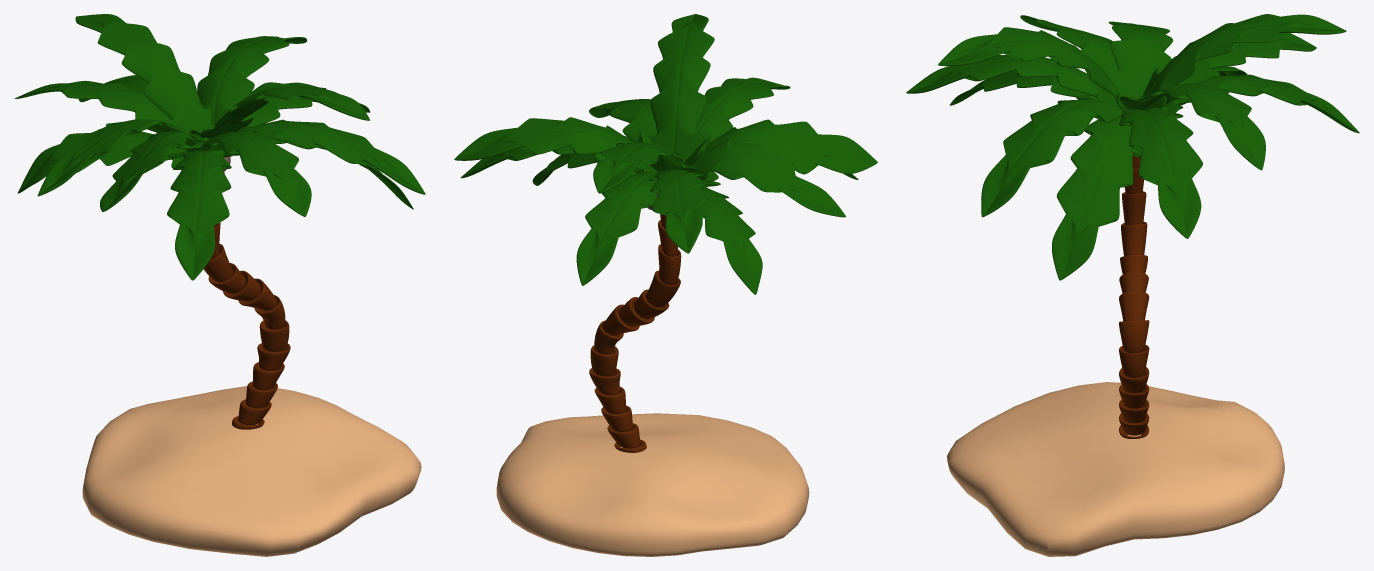
File: palma.glb
3 renders of one model, left to right at view 1: azimuth 30°, elevation 25°; view 2: azimuth 150°, elevation 25°; view 3: azimuth 270°, elevation 25°, orthographic. The views are drawn at different scales.
Visible parts, largest first — view 1: Cube.001, Cube.008, Cube; view 2: Cube.008, Cube.001, Cube; view 3: Cube.008, Cube.001, Cube.
Part boxes in pixels (left/top/right/bottom): Cube.001: left=82, top=386, right=421, bottom=556; Cube.008: left=14, top=14, right=425, bottom=280; Cube: left=203, top=222, right=290, bottom=429; Cube.008: left=454, top=14, right=877, bottom=294; Cube.001: left=496, top=413, right=809, bottom=556; Cube: left=589, top=214, right=681, bottom=452; Cube.008: left=906, top=14, right=1359, bottom=280; Cube.001: left=946, top=382, right=1284, bottom=556; Cube: left=1119, top=155, right=1149, bottom=438.
Size of the model in its own units: 5.02 by 5.84 by 5.21.
